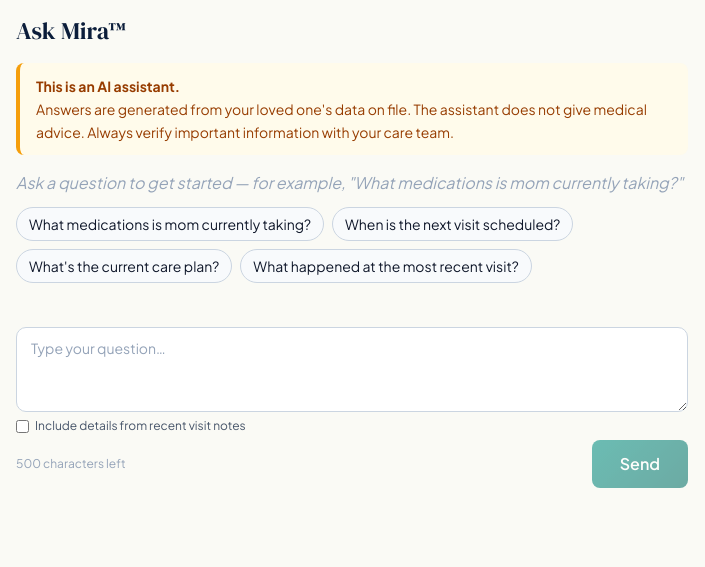
Test: FamilyChat (streaming) › hides the follow-up row when the backend returns no followUps
This screenshot has width=705, height=567.
In the text box with test id "family-chat-input": (352, 370) [16,327,688,412], type "unanswerable"
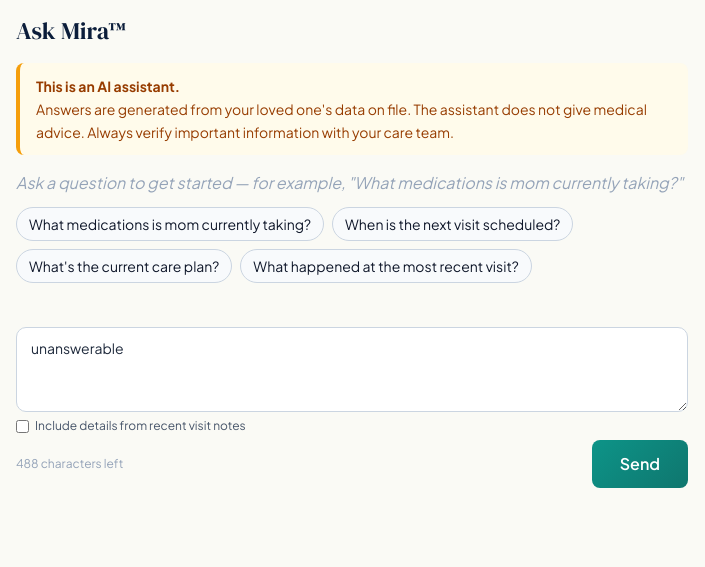
Click the button with test id "family-chat-submit": click(640, 464) [592,440,688,488]
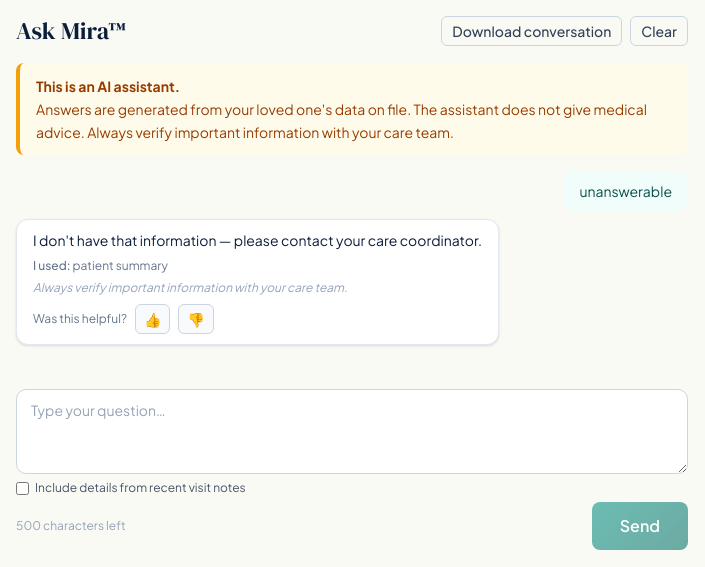
Expected: the text "don't have that information" is shown, [33,231,482,249]
